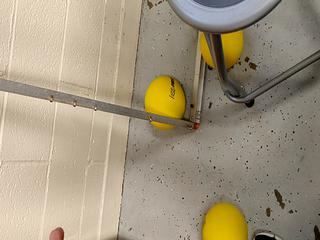power_cell: (198, 177, 249, 240), (141, 67, 192, 130), (198, 24, 247, 73)
